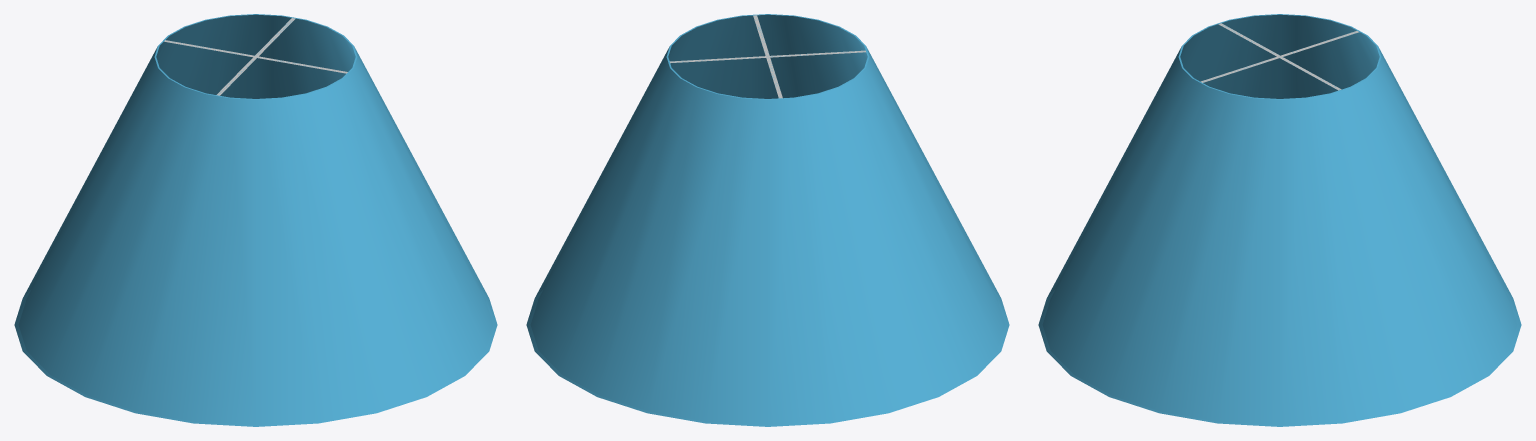
Rendered from original-1.obj.
3 views of the same model, side by side, from view 1: azimuth 30°, elevation 25°; view 2: azimuth 150°, elevation 25°; view 3: azimuth 270°, elevation 25° (orthographic).
Parts seen in each view (by area): view 1: PANTALLA1/PANTALLA/mesh1/mesh1-geometry#mesh1-geometry; view 2: PANTALLA1/PANTALLA/mesh1/mesh1-geometry#mesh1-geometry; view 3: PANTALLA1/PANTALLA/mesh1/mesh1-geometry#mesh1-geometry.
Part boxes in pixels (left/top/right/bottom): PANTALLA1/PANTALLA/mesh1/mesh1-geometry#mesh1-geometry: left=14, top=14, right=497, bottom=426; PANTALLA1/PANTALLA/mesh1/mesh1-geometry#mesh1-geometry: left=526, top=14, right=1009, bottom=426; PANTALLA1/PANTALLA/mesh1/mesh1-geometry#mesh1-geometry: left=1038, top=14, right=1521, bottom=426.
Bounding box in the file's own units: 0.797 × 0.4877 × 0.797.
